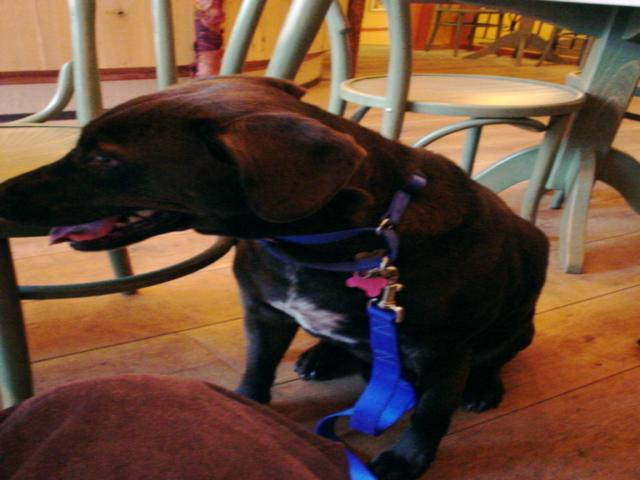Dog: (0, 75, 555, 479)
